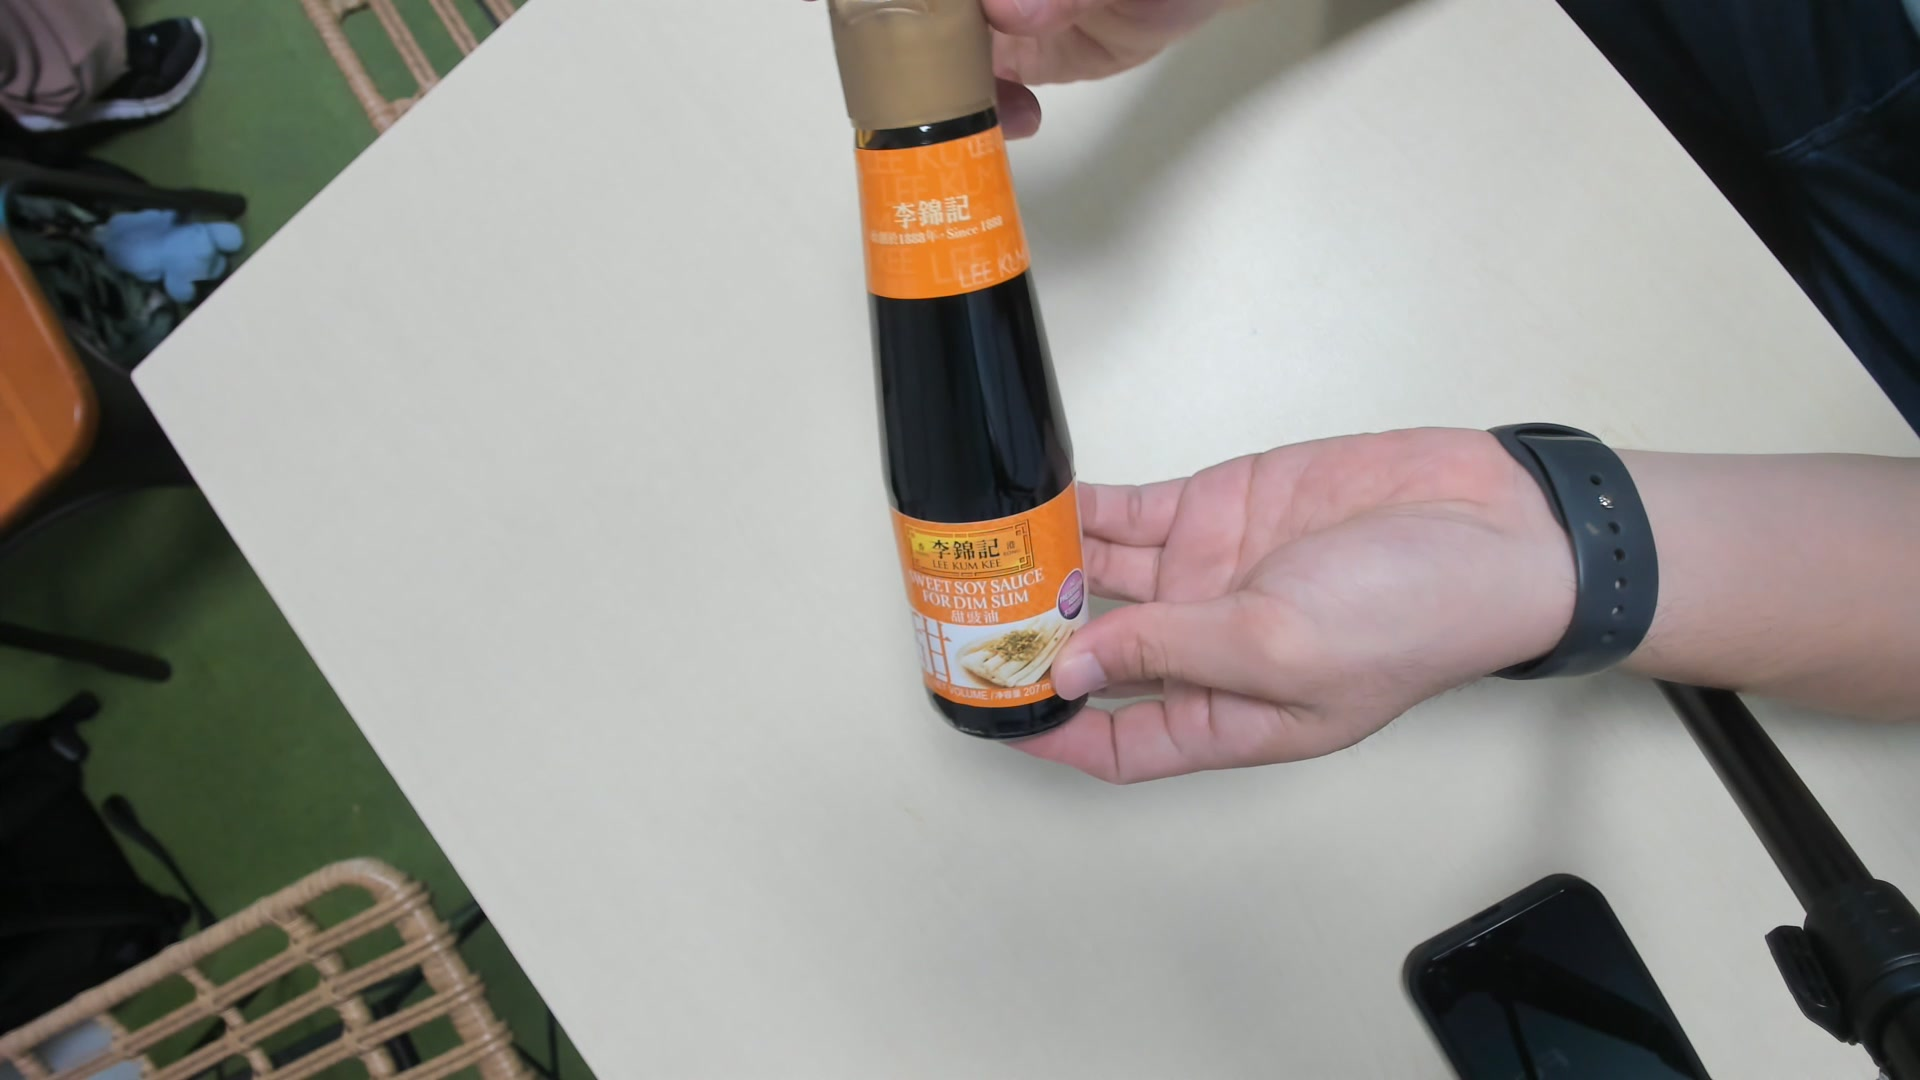OtherSauceDressing_200-299g_NonHalal_NonHealthy: (836, 5, 1096, 737)
